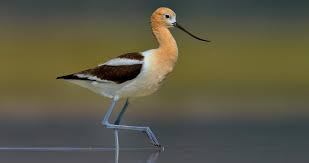Walking: (40, 6, 225, 163)
